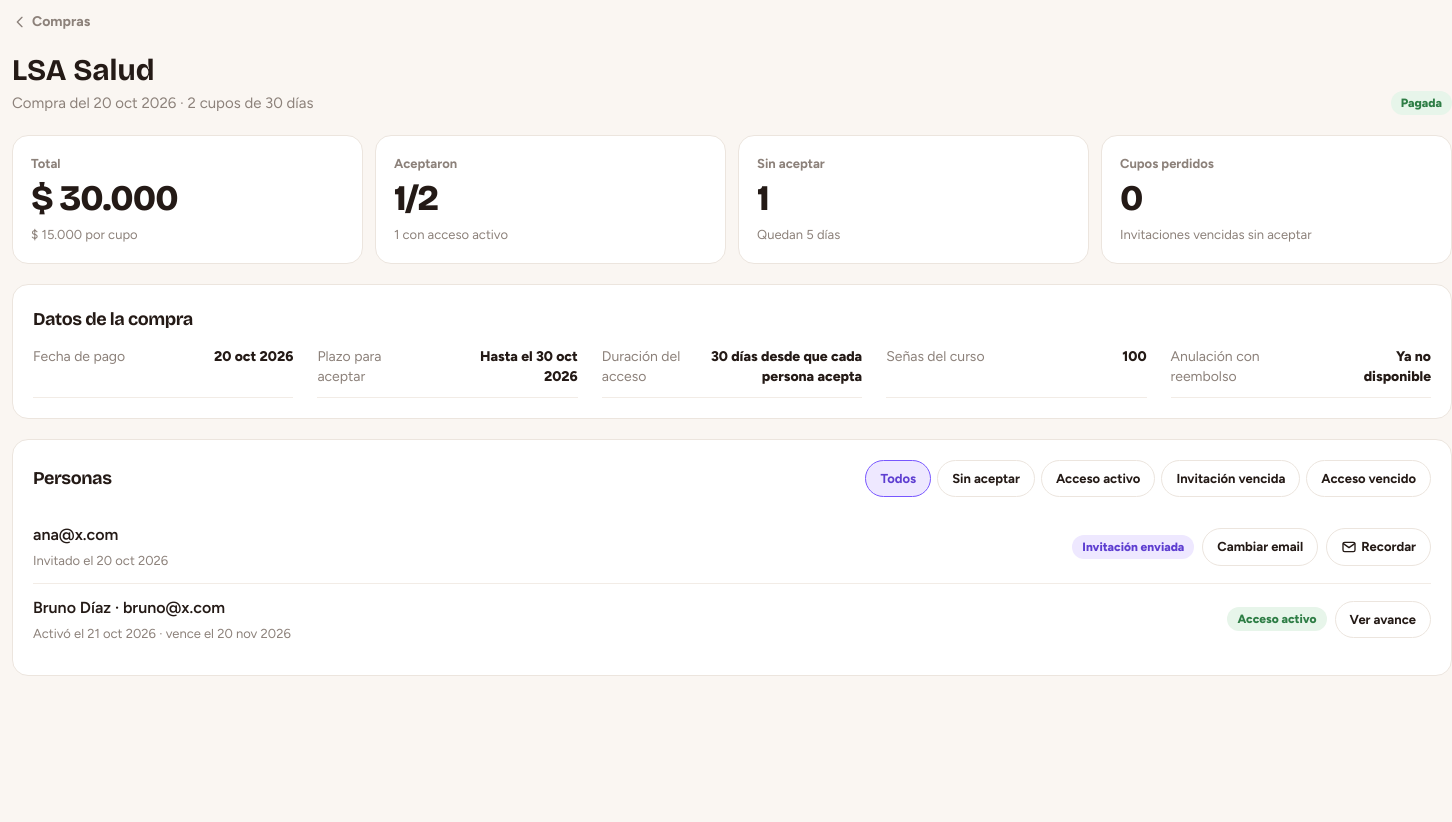
Test: PurchaseDetailPage › lists the seats with their state and filters them
The width and height of the screenshot is (1452, 822).
Expected: the text "ana@x.com" is shown, left=33, top=525, right=118, bottom=544
Expected: the text "Bruno Díaz · bruno@x.com" is shown, left=33, top=598, right=225, bottom=616
Click the button "Sin aceptar".
click(986, 478)  # box left=937, top=460, right=1035, bottom=497
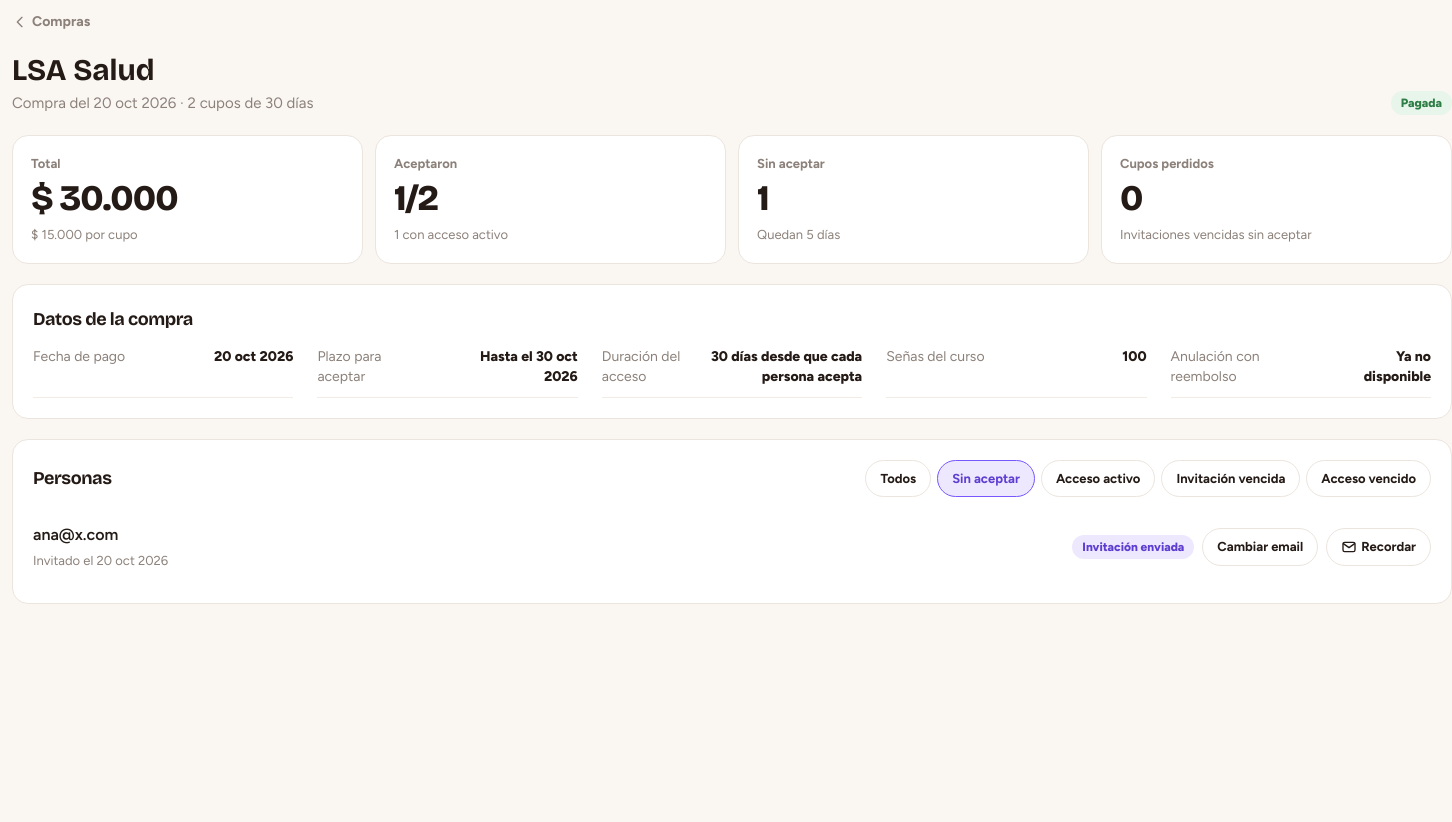
Now the text "Bruno Díaz · bruno@x.com" is gone
